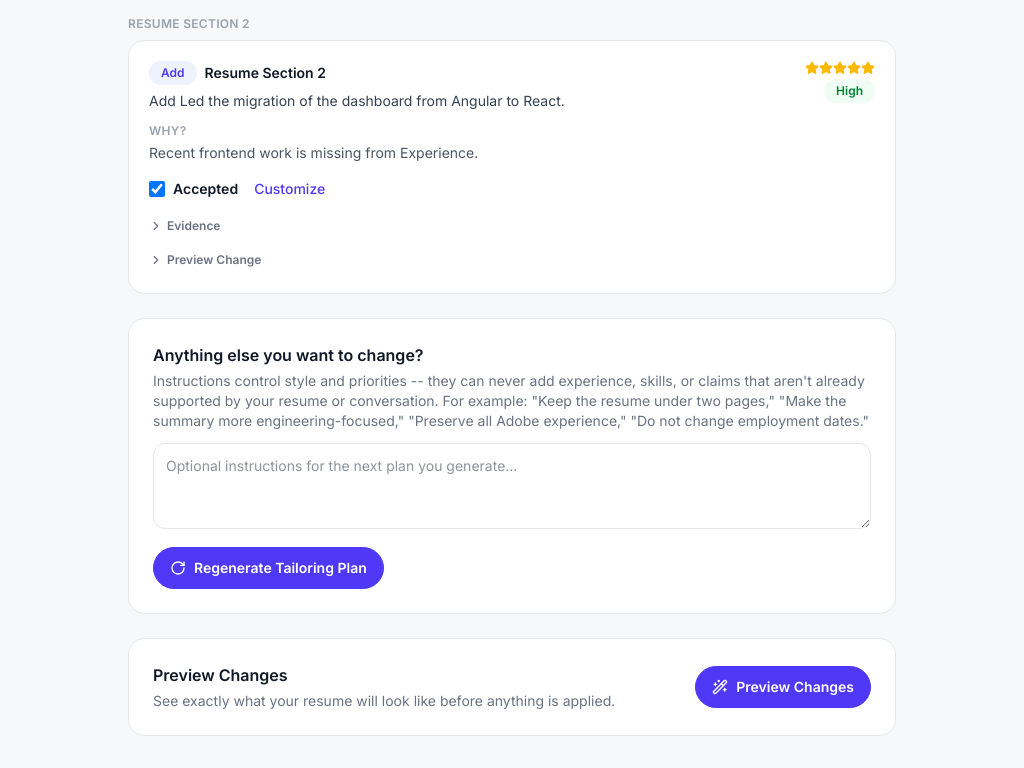
TailoredResumePage: generate/regenerate CTA next to custom instructions › Preview Changes still works independently of the generate/regenerate CTA
(page scrolled)
Step 1. Click the button "Preview Changes" → (783,687), box top-left (695, 666), bottom-right (871, 708)
(page scrolled)
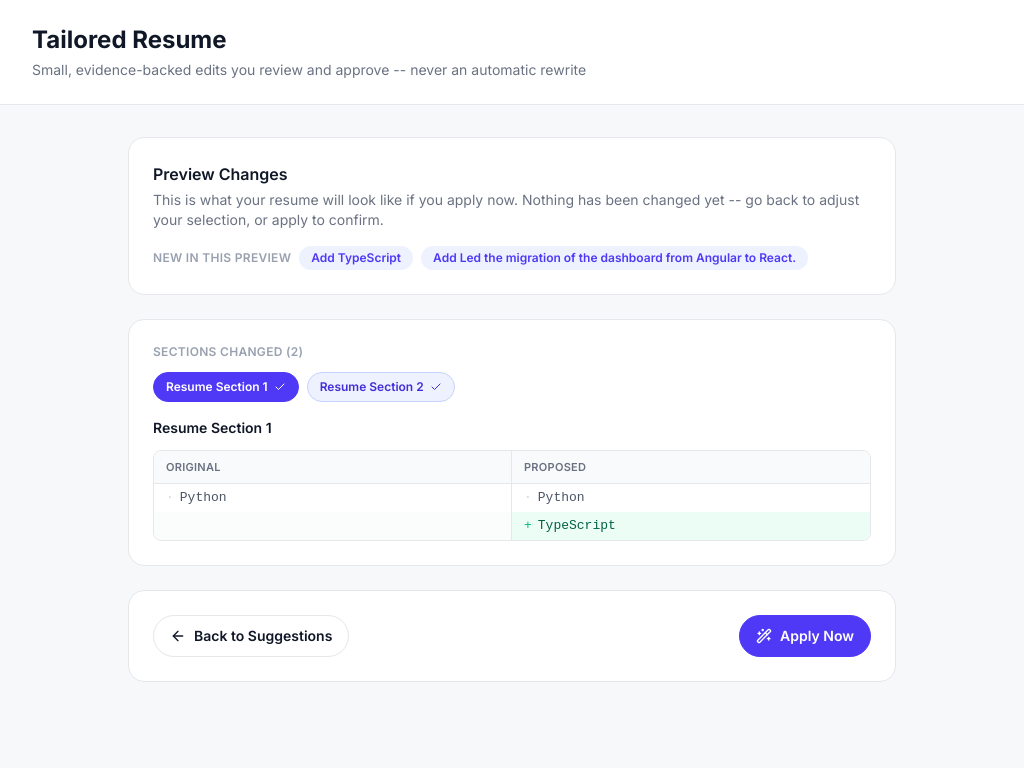
Expected: the button "Apply Now" is shown, top-left (739, 615), bottom-right (871, 657)
